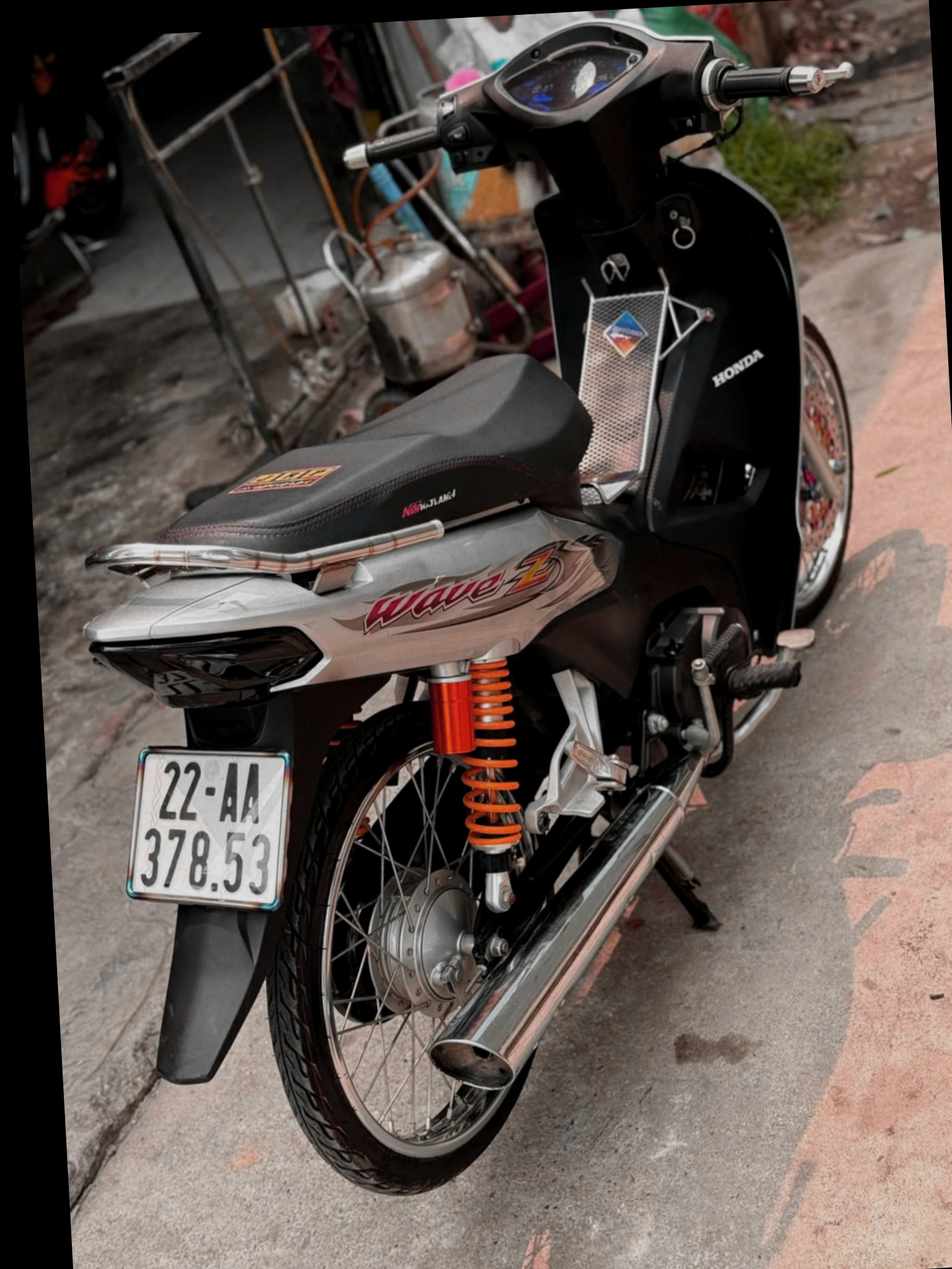Bien-so: (107, 736, 303, 918)
